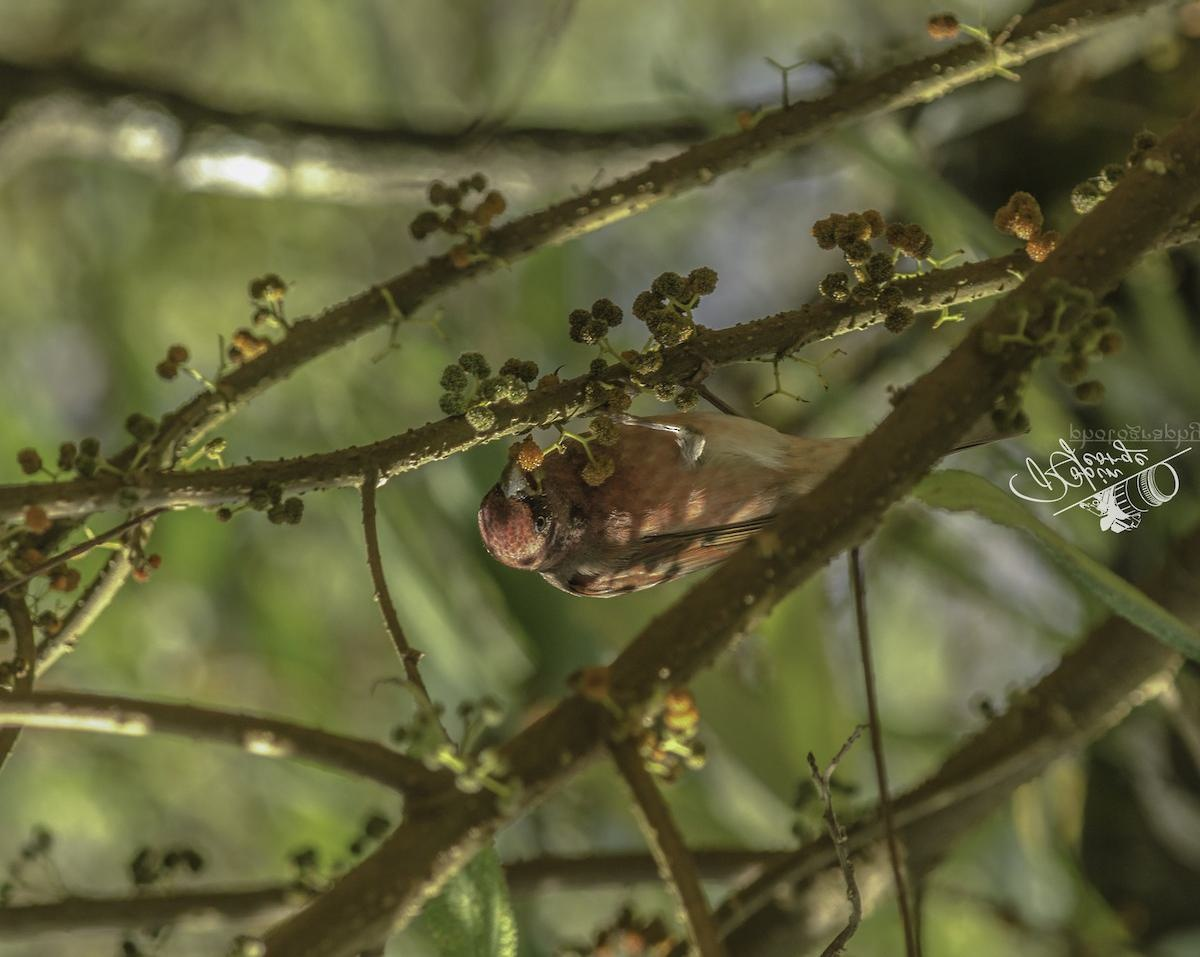rosefinch: (447, 406, 908, 603)
